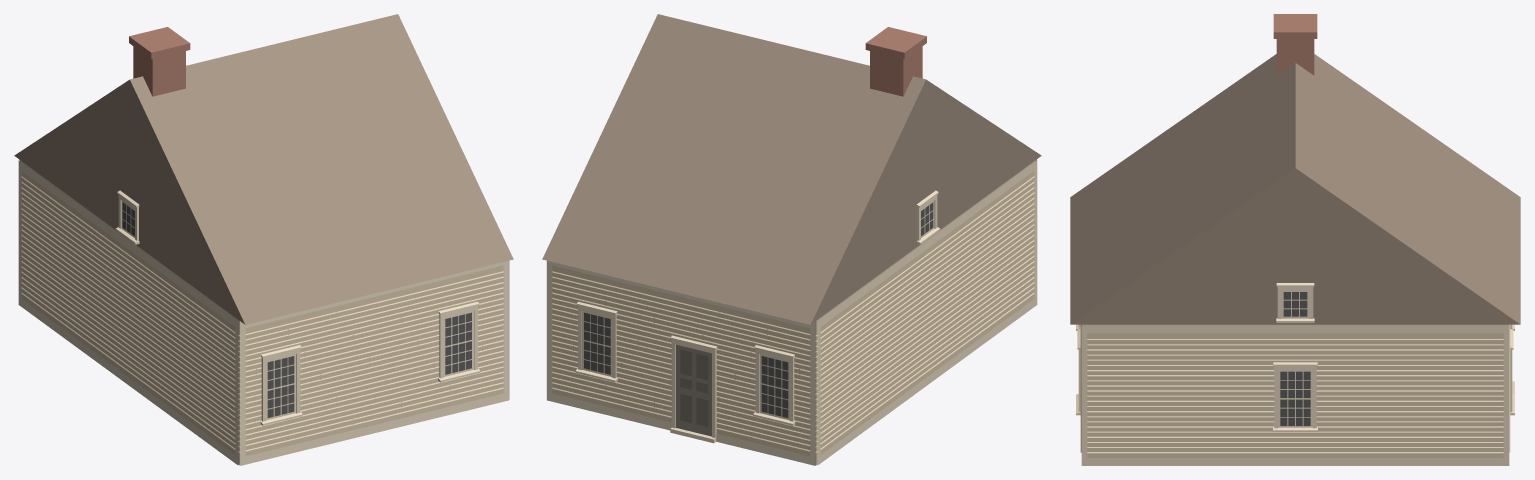
Rendered from recon_1835_blk_school_section_tier_119_d6_01__inferred_1835.glb.
The picture shows the model from 3 angles, left to right: view 1: azimuth 30°, elevation 25°; view 2: azimuth 150°, elevation 25°; view 3: azimuth 270°, elevation 25°; orthographic projection. The views are drawn at different scales.
Parts seen in each view (by area): view 1: recon_1835_blk_school_section_tier_119_d6_01__inferred_1835; view 2: recon_1835_blk_school_section_tier_119_d6_01__inferred_1835; view 3: recon_1835_blk_school_section_tier_119_d6_01__inferred_1835.
Part boxes in pixels (box(x1,y1,x2,y2)): recon_1835_blk_school_section_tier_119_d6_01__inferred_1835: box(14, 14, 513, 465); recon_1835_blk_school_section_tier_119_d6_01__inferred_1835: box(542, 14, 1041, 465); recon_1835_blk_school_section_tier_119_d6_01__inferred_1835: box(1070, 14, 1520, 465).
Bounding box in the file's own units: 6.98 × 8.13 × 10.08.
